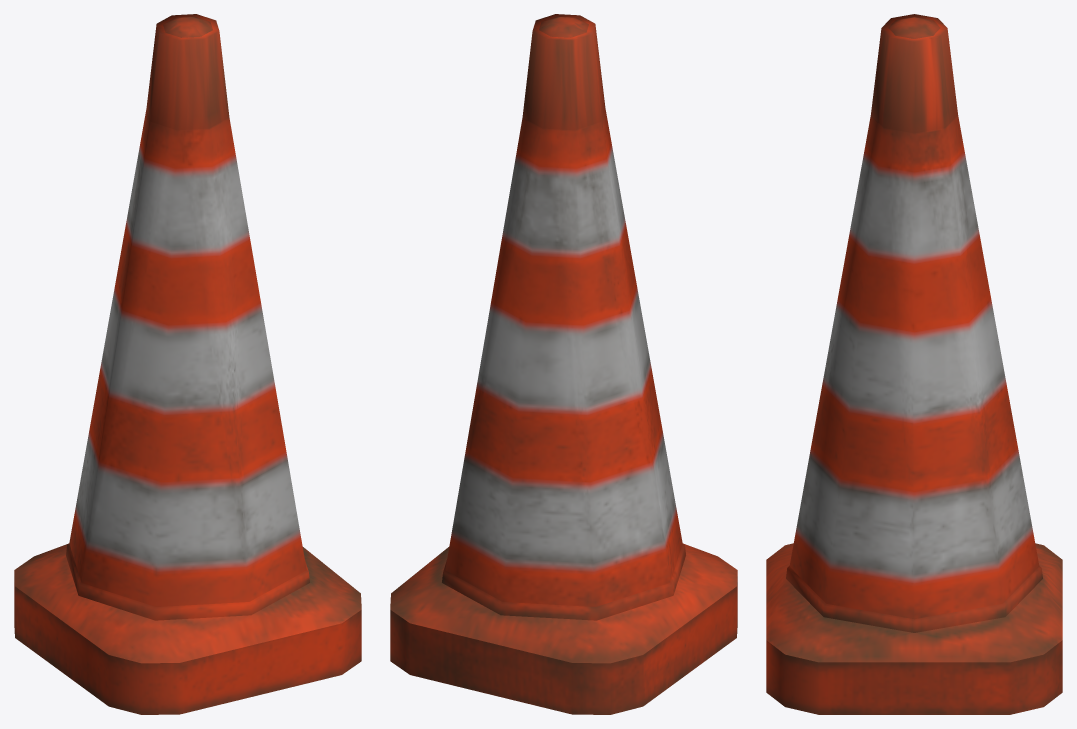
File: PrpPoleA3.fbx
3 renders of one model, left to right at view 1: azimuth 30°, elevation 25°; view 2: azimuth 150°, elevation 25°; view 3: azimuth 270°, elevation 25°, orthographic.
Visible parts, largest first — view 1: PrpPoleA3_COLA1, PrpPoleA3; view 2: PrpPoleA3_COLA1, PrpPoleA3; view 3: PrpPoleA3_COLA1, PrpPoleA3.
Boxes of the visible parts, <box> form: PrpPoleA3_COLA1: <box>69,14,306,606</box>; PrpPoleA3: <box>14,16,361,714</box>; PrpPoleA3_COLA1: <box>445,14,682,606</box>; PrpPoleA3: <box>390,16,737,714</box>; PrpPoleA3_COLA1: <box>789,14,1039,619</box>; PrpPoleA3: <box>766,17,1062,714</box>.
Size of the model in its own units: 37.12 by 87.15 by 37.12.
